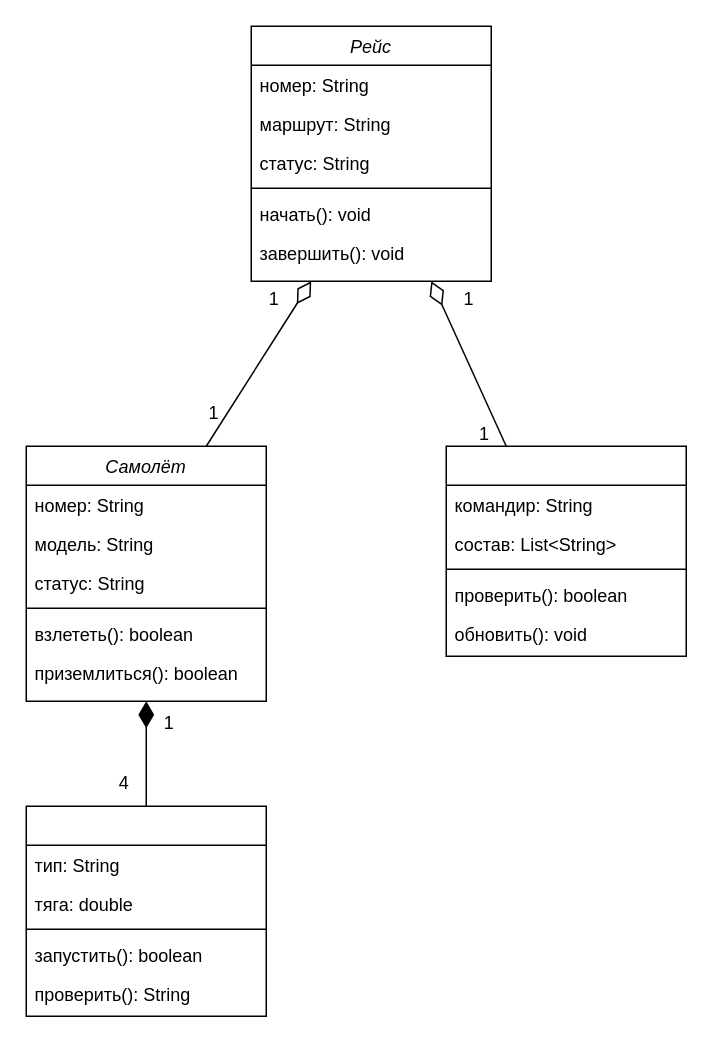
This 713x1044 diagram has some shape labels left out. The shapes that lost their labels are listed below. From the top down, each one's box as (x1, y1, x2, y2) in pixels, then its label:
(445, 445, 686, 656): Экипаж
(25, 805, 266, 1016): Двигатель
